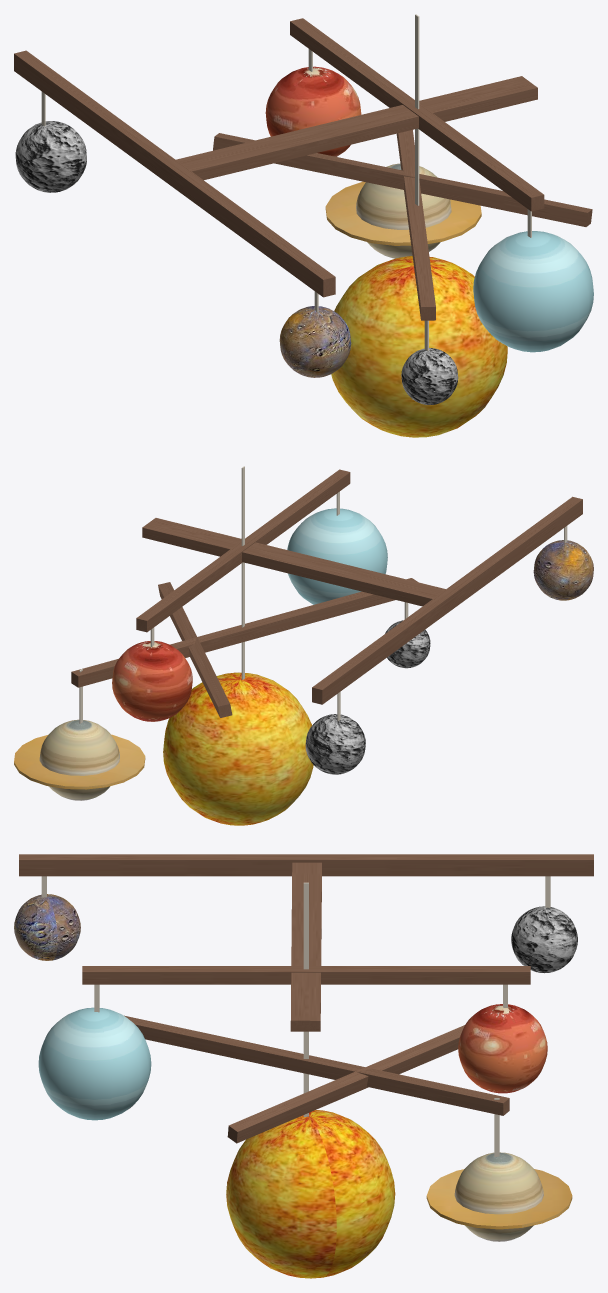
Rendered from carrusel.obj.
3 views of the same model, one above another, from view 1: azimuth 30°, elevation 25°; view 2: azimuth 150°, elevation 25°; view 3: azimuth 270°, elevation 25° (orthographic). The views are drawn at different scales.
Visible parts, largest first — view 1: pasted__pSphere2 group12, pasted__pSphere2 group13, pasted__pCube1 group, pasted__pCube1 group1, pCube1, pasted__pasted__pCube1 pasted__group3 group4, pasted__pSphere2 group14, pasted__pSphere2 group10, pasted__pasted__pSphere2 pasted__group10 group15, pCylinder1, pSphere2, pasted__pCube1 group3 (+2 smaller); view 2: pasted__pSphere2 group12, pasted__pCube1 group, pasted__pCube1 group1, pasted__pSphere2 group13, pasted__pSphere2 group14, pCube1, pasted__pCube1 group3, pSphere2, pCylinder1, pasted__pasted__pSphere2 pasted__group10 group15, pasted__pSphere2 group10, pasted__pasted__pCube1 pasted__group3 group4 (+2 smaller); view 3: pasted__pSphere2 group12, pasted__pCube1 group, pasted__pSphere2 group13, pCube1, pasted__pCube1 group3, pasted__pSphere2 group14, pSphere2, pasted__pasted__pCube1 pasted__group3 group4, pasted__pCube1 group1, pCylinder1, pasted__pasted__pSphere2 pasted__group10 group15, pasted__pSphere2 group10 (+1 smaller).
Part boxes in pixels (x1,y1,x2,y2): pasted__pSphere2 group12: (331, 256, 507, 437); pasted__pSphere2 group13: (473, 231, 593, 352); pasted__pCube1 group: (14, 50, 335, 297); pasted__pCube1 group1: (176, 76, 537, 179); pCube1: (290, 18, 544, 211); pasted__pasted__pCube1 pasted__group3 group4: (213, 133, 592, 226); pasted__pSphere2 group14: (265, 66, 361, 156); pasted__pSphere2 group10: (15, 121, 86, 192); pasted__pasted__pSphere2 pasted__group10 group15: (279, 306, 351, 377); pCylinder1: (325, 181, 481, 245); pSphere2: (356, 163, 451, 258); pasted__pCube1 group3: (396, 129, 435, 320); pasted__pSphere2 group12: (163, 672, 313, 825); pasted__pCube1 group: (312, 496, 582, 704); pasted__pCube1 group1: (142, 518, 445, 606); pasted__pSphere2 group13: (287, 508, 387, 604); pasted__pSphere2 group14: (112, 641, 192, 721); pCube1: (136, 469, 350, 632); pasted__pCube1 group3: (71, 578, 417, 687); pSphere2: (39, 719, 119, 800); pCylinder1: (14, 734, 145, 789); pasted__pasted__pSphere2 pasted__group10 group15: (533, 540, 593, 600); pasted__pSphere2 group10: (305, 714, 365, 774); pasted__pasted__pCube1 pasted__group3 group4: (158, 582, 232, 717); pasted__pSphere2 group12: (226, 1110, 395, 1278); pasted__pCube1 group: (19, 854, 593, 876); pasted__pSphere2 group13: (38, 1007, 151, 1120); pCube1: (82, 966, 530, 984); pasted__pCube1 group3: (124, 1015, 509, 1115); pasted__pSphere2 group14: (458, 1004, 547, 1093); pSphere2: (454, 1152, 543, 1241); pasted__pasted__pCube1 pasted__group3 group4: (227, 1025, 464, 1143); pasted__pCube1 group1: (290, 862, 321, 1031); pCylinder1: (426, 1169, 572, 1229); pasted__pasted__pSphere2 pasted__group10 group15: (14, 894, 80, 960); pasted__pSphere2 group10: (511, 906, 577, 973).
Size of the model in its own units: 2.29 by 2.12 by 2.88.
21 materials, 21 textured.
